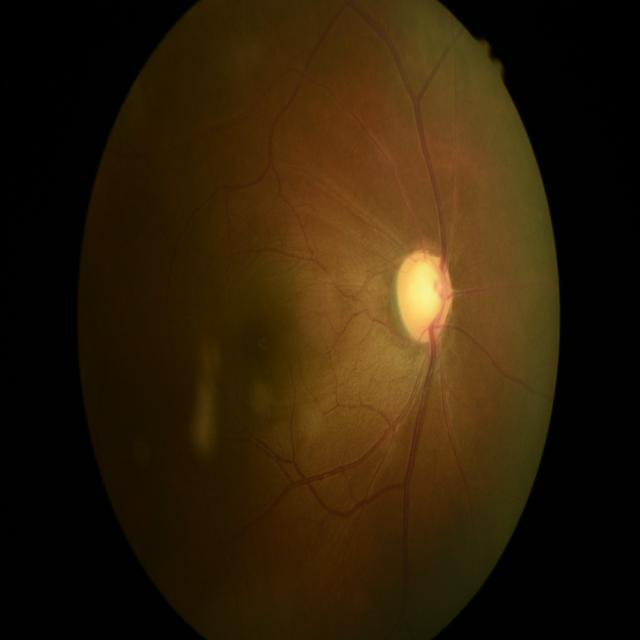cup: (401, 261, 448, 334)
disk: (396, 249, 452, 343)
